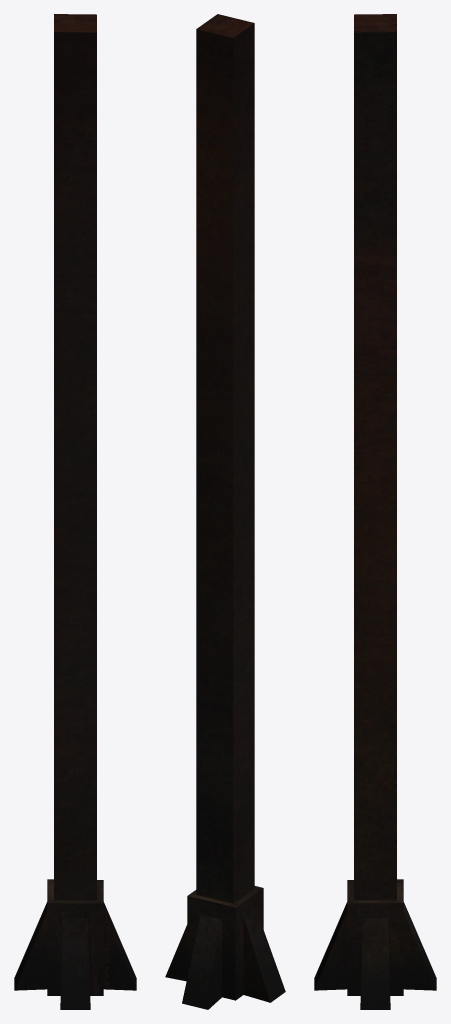
Rendered from STOLB.glb.
The picture shows the model from 3 angles, left to right: view 1: azimuth 90°, elevation 25°; view 2: azimuth 150°, elevation 25°; view 3: azimuth 270°, elevation 25°; orthographic projection.
Visible parts, largest first — view 1: Cube.001; view 2: Cube.001; view 3: Cube.001.
Part boxes in pixels (bbox=[...]): Cube.001: bbox=[14, 14, 136, 1009]; Cube.001: bbox=[165, 14, 285, 1009]; Cube.001: bbox=[314, 14, 436, 1009].
Size of the model in its own units: 0.3207 by 2.79 by 0.3207.
Materials: 1 (1 with a texture image).
